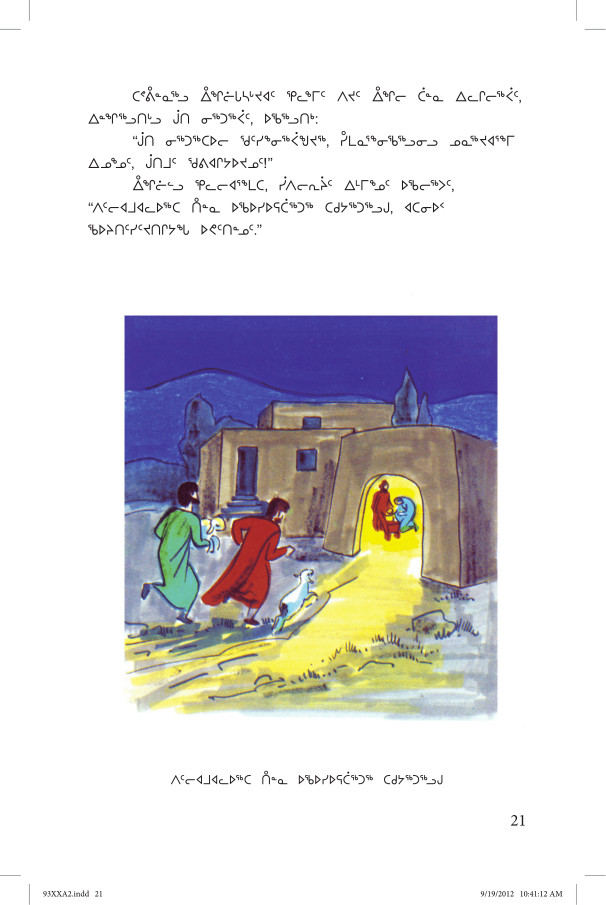inuktitut: (77, 79, 529, 244), (165, 766, 448, 788)
